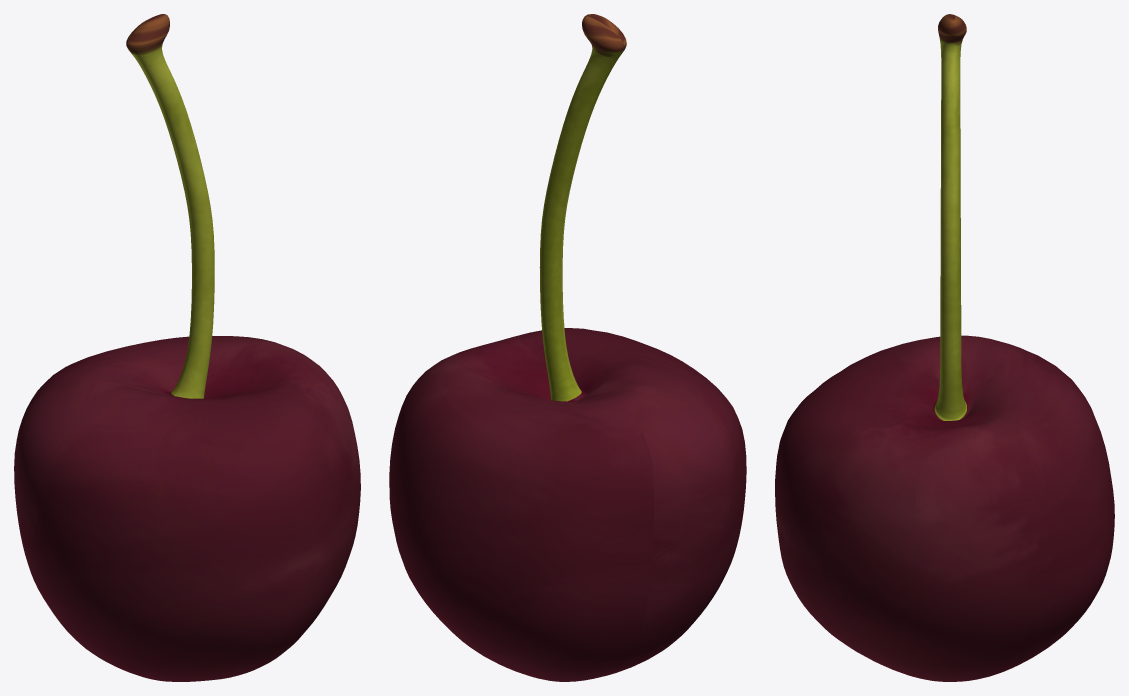
File: cherry.glb
3 views of the same model, side by side, from view 1: azimuth 30°, elevation 25°; view 2: azimuth 150°, elevation 25°; view 3: azimuth 270°, elevation 25° (orthographic). The views are drawn at different scales.
Parts seen in each view (by area): view 1: 10174_Cherry_v01_l3; view 2: 10174_Cherry_v01_l3; view 3: 10174_Cherry_v01_l3.
Part boxes in pixels (bbox=[...]): 10174_Cherry_v01_l3: bbox=[14, 14, 360, 681]; 10174_Cherry_v01_l3: bbox=[389, 14, 746, 681]; 10174_Cherry_v01_l3: bbox=[775, 14, 1114, 681].
Bounding box in the file's own units: 0.0272 × 0.0539 × 0.026.
Materials: 1 (1 with a texture image).
